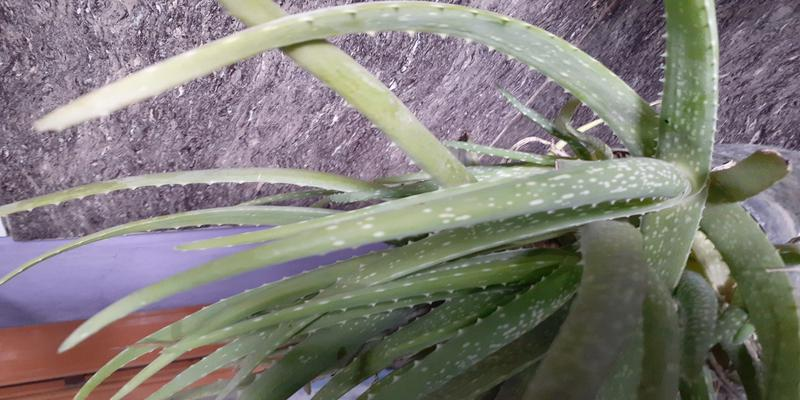Aloevera: (211, 158, 751, 383)
